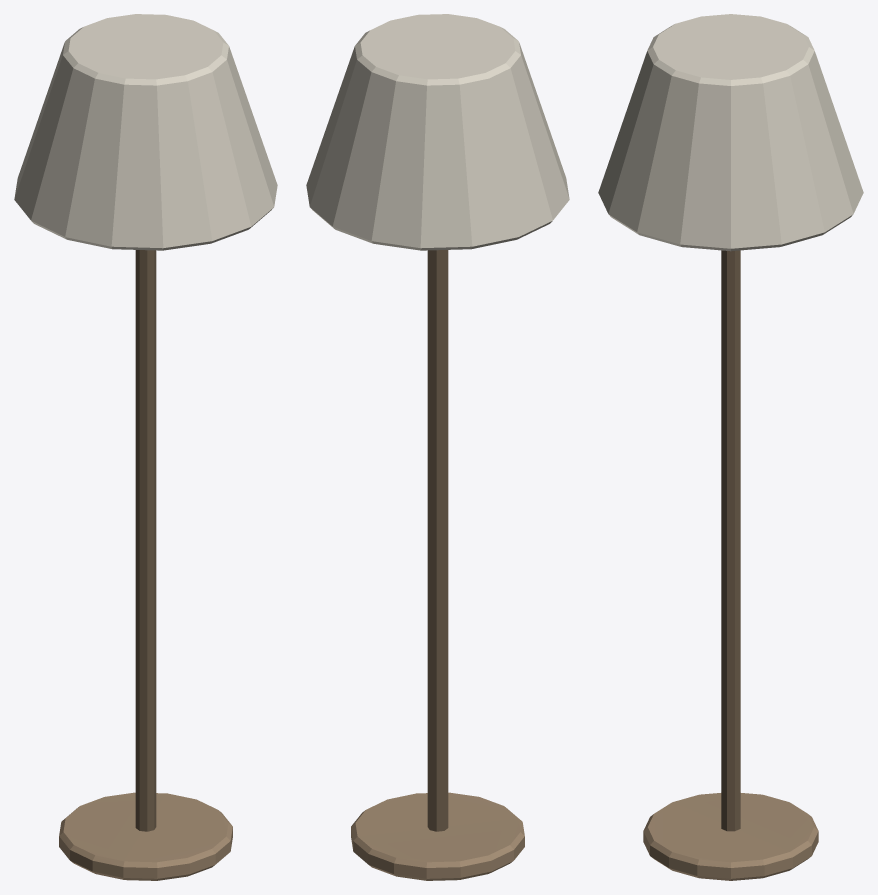
The model's file is furn_floor_lamp__cream.glb.
3 renders of one model, left to right at view 1: azimuth 30°, elevation 25°; view 2: azimuth 150°, elevation 25°; view 3: azimuth 270°, elevation 25°, orthographic.
Bounding box in the file's own units: 0.515 × 1.71 × 0.515.
